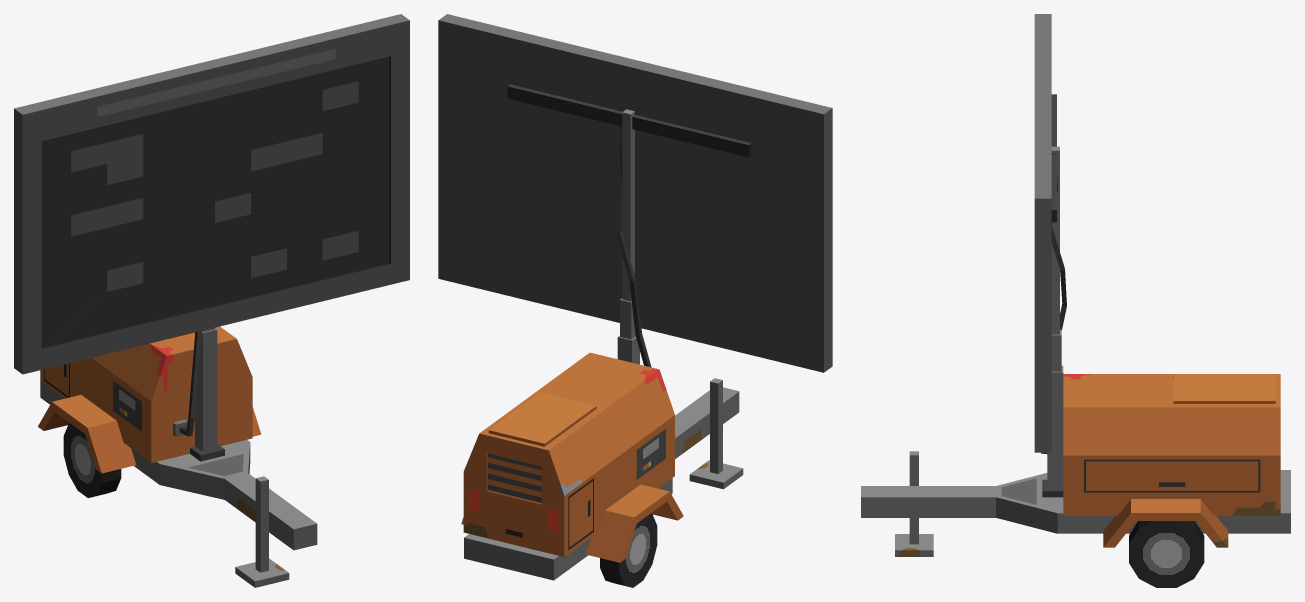
Rendered from SA_Prop_ElectronicSign_01.glb.
3 views of the same model, side by side, from view 1: azimuth 30°, elevation 25°; view 2: azimuth 150°, elevation 25°; view 3: azimuth 270°, elevation 25° (orthographic). The views are drawn at different scales.
Visible parts, largest first — view 1: SA_Prop_ElectronicSign_01; view 2: SA_Prop_ElectronicSign_01; view 3: SA_Prop_ElectronicSign_01.
Part boxes in pixels (x1,y1,x2,y2): SA_Prop_ElectronicSign_01: [14, 14, 409, 587]; SA_Prop_ElectronicSign_01: [438, 14, 832, 587]; SA_Prop_ElectronicSign_01: [861, 14, 1290, 587].
Size of the model in its own units: 2.7 by 3.07 by 2.66.
1 material, 1 textured.
